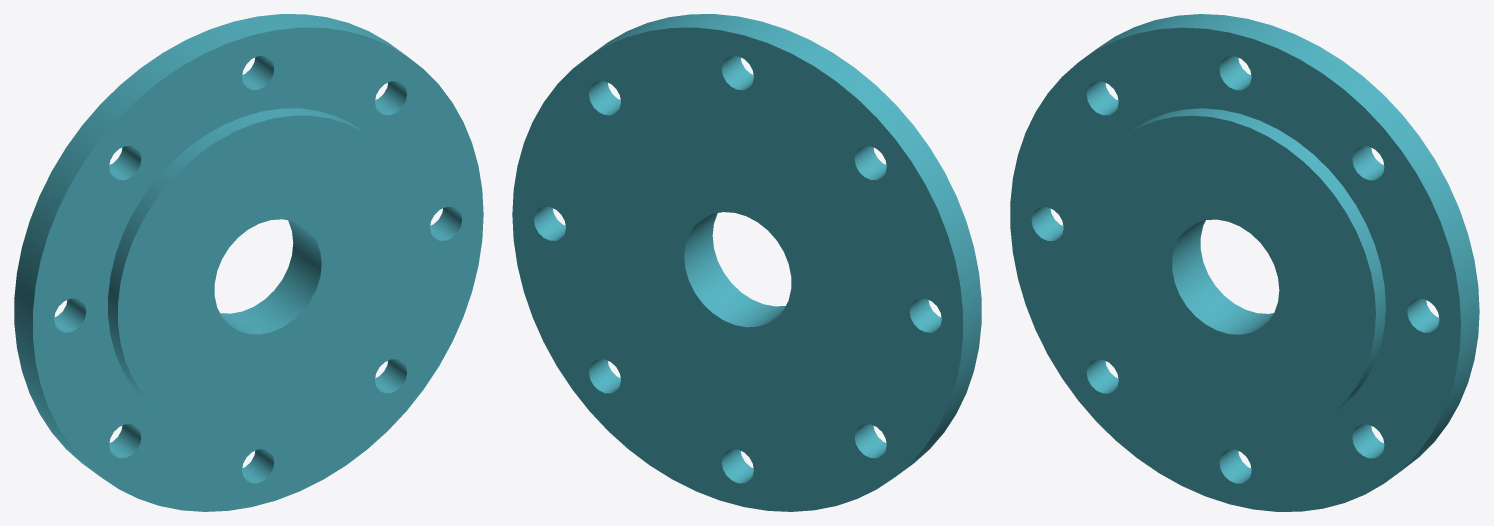
3 renders of one model, left to right at view 1: azimuth 30°, elevation 25°; view 2: azimuth 150°, elevation 25°; view 3: azimuth 330°, elevation 25°, orthographic.
Visible parts, largest first — view 1: Solid1; view 2: Solid1; view 3: Solid1.
Part boxes in pixels (box(x1,y1,x2,y2)): Solid1: box(14, 14, 483, 511); Solid1: box(512, 14, 981, 511); Solid1: box(1010, 14, 1479, 511).
Size of the model in its own units: 0.2099 by 0.2099 by 0.023.
